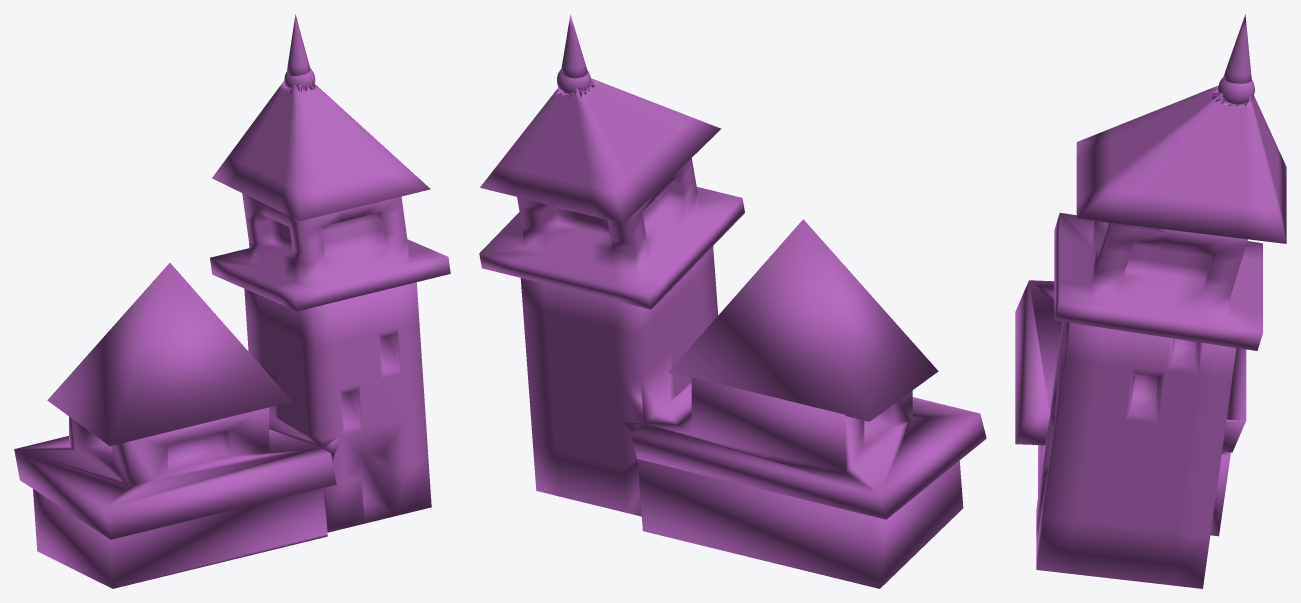
Rendered from Marshmallow Laboratory.obj.
The picture shows the model from 3 angles, left to right: view 1: azimuth 30°, elevation 25°; view 2: azimuth 150°, elevation 25°; view 3: azimuth 270°, elevation 25°; orthographic projection. The views are drawn at different scales.
Visible parts, largest first — view 1: Marshmallow_Laboratory; view 2: Marshmallow_Laboratory; view 3: Marshmallow_Laboratory.
Part boxes in pixels (box(x1,y1,x2,y2)): Marshmallow_Laboratory: box(14, 14, 450, 588); Marshmallow_Laboratory: box(479, 14, 986, 588); Marshmallow_Laboratory: box(1015, 14, 1286, 588).
Bounding box in the file's own units: 89.82 × 112 × 49.61.
